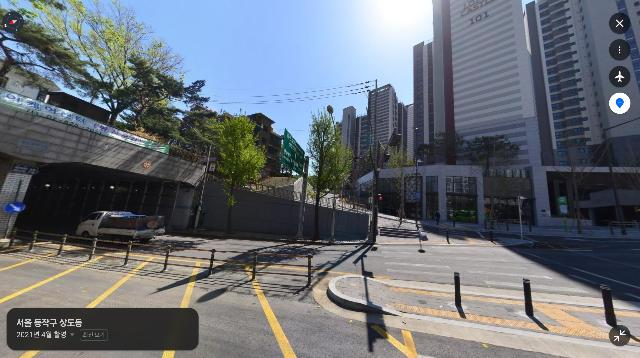other: (0, 0, 213, 147), (202, 106, 268, 236), (305, 105, 351, 241), (548, 129, 595, 235), (384, 146, 411, 223), (473, 133, 524, 168), (430, 131, 477, 167)
